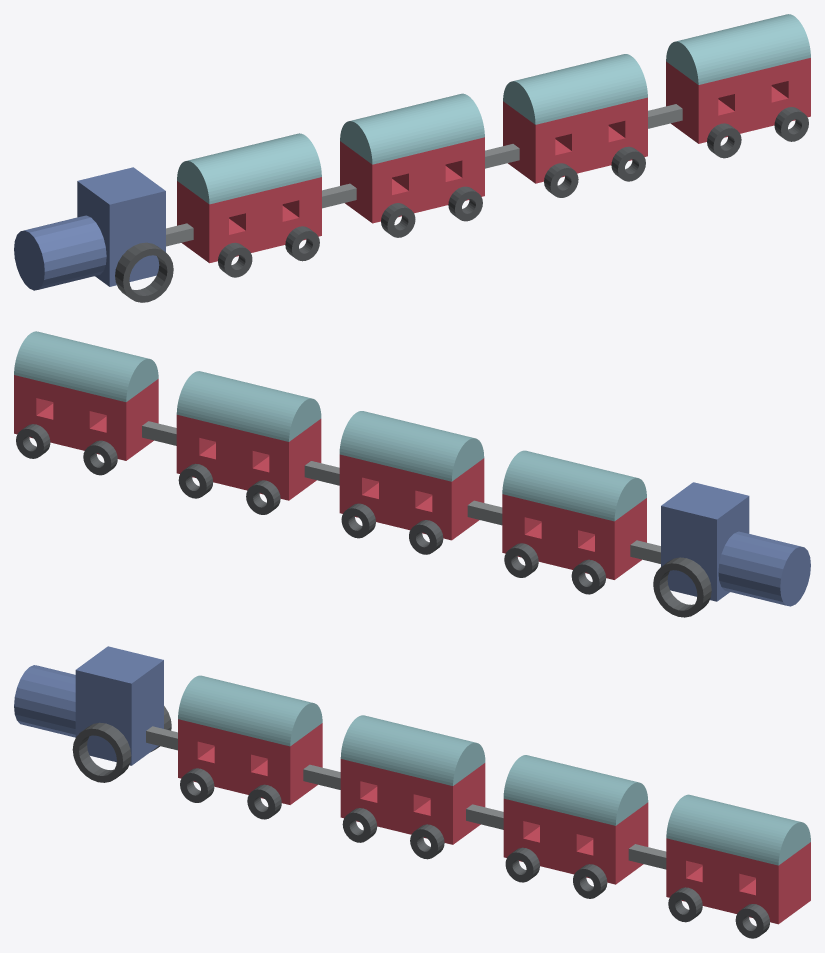
The model's file is Fabulous Jaban.glb.
3 renders of one model, top to bottom at view 1: azimuth 30°, elevation 25°; view 2: azimuth 150°, elevation 25°; view 3: azimuth 330°, elevation 25°, orthographic.
Parts seen in each view (by area): view 1: Mesh_Mesh_head_geo.001_lambert2SG.001; view 2: Mesh_Mesh_head_geo.001_lambert2SG.001; view 3: Mesh_Mesh_head_geo.001_lambert2SG.001.
Part boxes in pixels (<box>): Mesh_Mesh_head_geo.001_lambert2SG.001: <box>14,14,810,302</box>; Mesh_Mesh_head_geo.001_lambert2SG.001: <box>14,331,810,617</box>; Mesh_Mesh_head_geo.001_lambert2SG.001: <box>14,646,810,938</box>.
Size of the model in its own units: 273 by 35 by 30.
